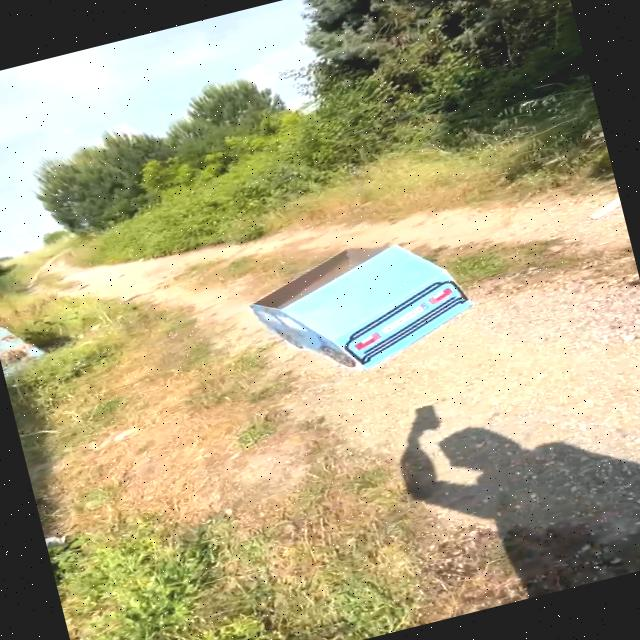blue_car: (225, 207, 507, 406)
